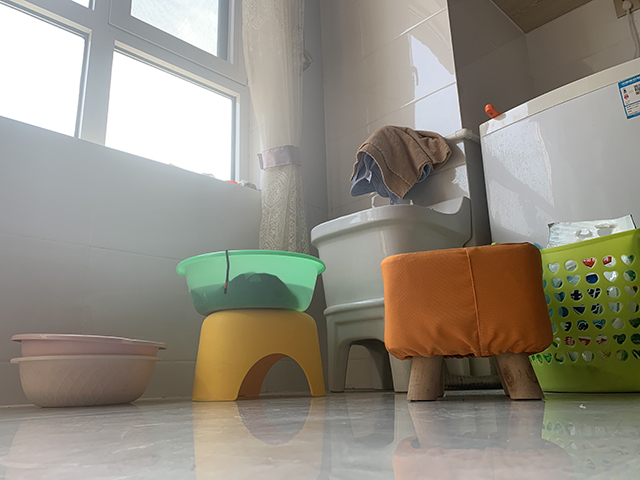curtain: (240, 2, 309, 252)
stool: (378, 242, 555, 402), (189, 309, 326, 403)
